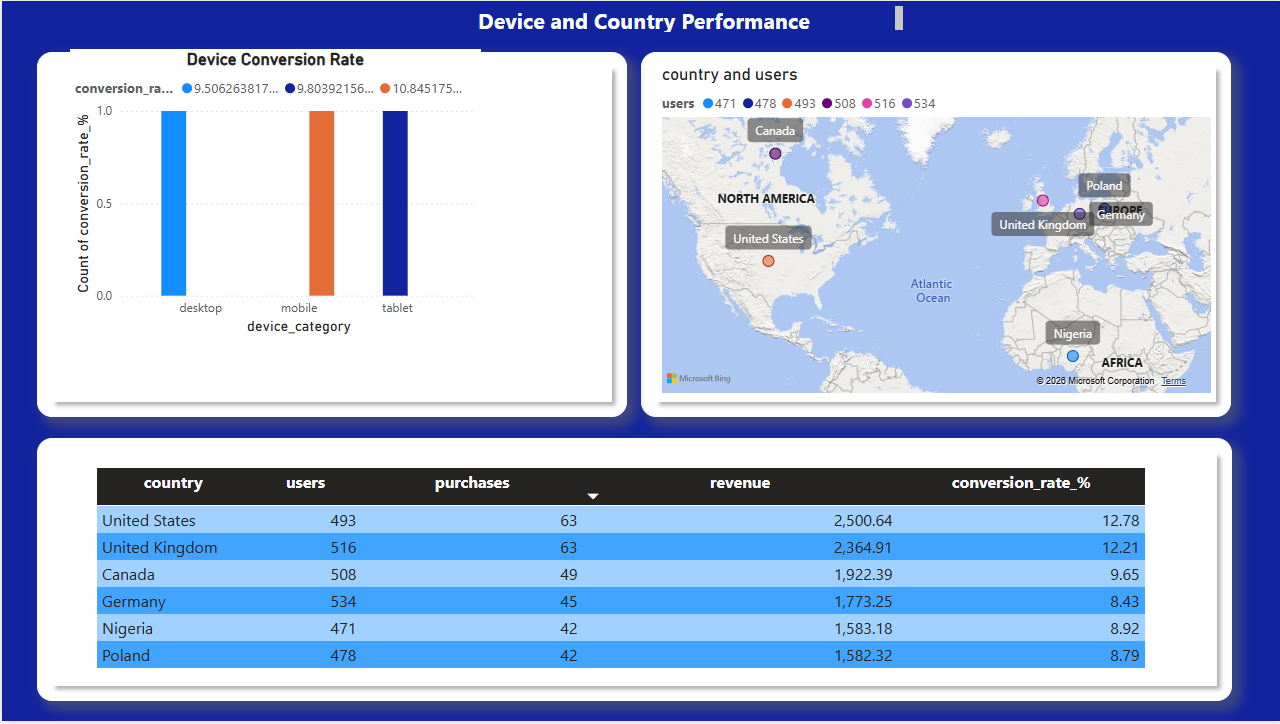

What the dashboard file says about the page in this screenshot:
{"tool":"powerbi","page":{"name":"Device & Country Performance","canvas":[1280,720],"ordinal":3},"visuals":[{"type":"shape","box":[34.7,437.3,1195.6,263.1],"z":0},{"type":"shape","box":[639.1,50.7,590.2,365.3],"z":1000},{"type":"shape","box":[34.7,50.7,590.2,365.3],"z":2000},{"type":"clusteredColumnChart","title":"Device Conversion Rate","fields":{"Category":["device_summary.device_category"],"Y":["CountNonNull(device_summary.conversion_rate_%)"],"Series":["device_summary.conversion_rate_%"]},"box":[68.1,47.7,410.5,290.8],"z":3000},{"type":"map","fields":{"Series":["country_summary.users"],"Category":["country_summary.country"]},"box":[655.1,63.1,559.1,334.2],"z":4000},{"type":"tableEx","fields":{"Values":["country_summary.country","country_summary.users","country_summary.purchases","country_summary.revenue","country_summary.conversion_rate_%"]},"box":[88.9,462.2,1102.2,213.3],"z":5000},{"type":"textbox","box":[471.1,0,434.7,35.6],"z":5001}]}

Visuals, with their boxes in screenshot pixels (x1, y1, x2, y2), scaled from the page's 1280x720 canvas onto the 1280x724 screenshot:
shape: l=35, t=440, r=1230, b=704
shape: l=639, t=51, r=1229, b=418
shape: l=35, t=51, r=625, b=418
"Device Conversion Rate" clusteredColumnChart: l=68, t=48, r=479, b=340
map - country_summary.users x country_summary.country: l=655, t=63, r=1214, b=400
tableEx - country_summary.country x country_summary.users: l=89, t=465, r=1191, b=679
textbox: l=471, t=0, r=906, b=36
